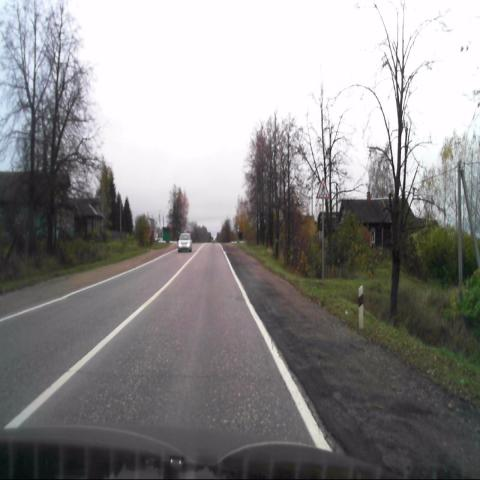1_22: (316, 176, 330, 198)
